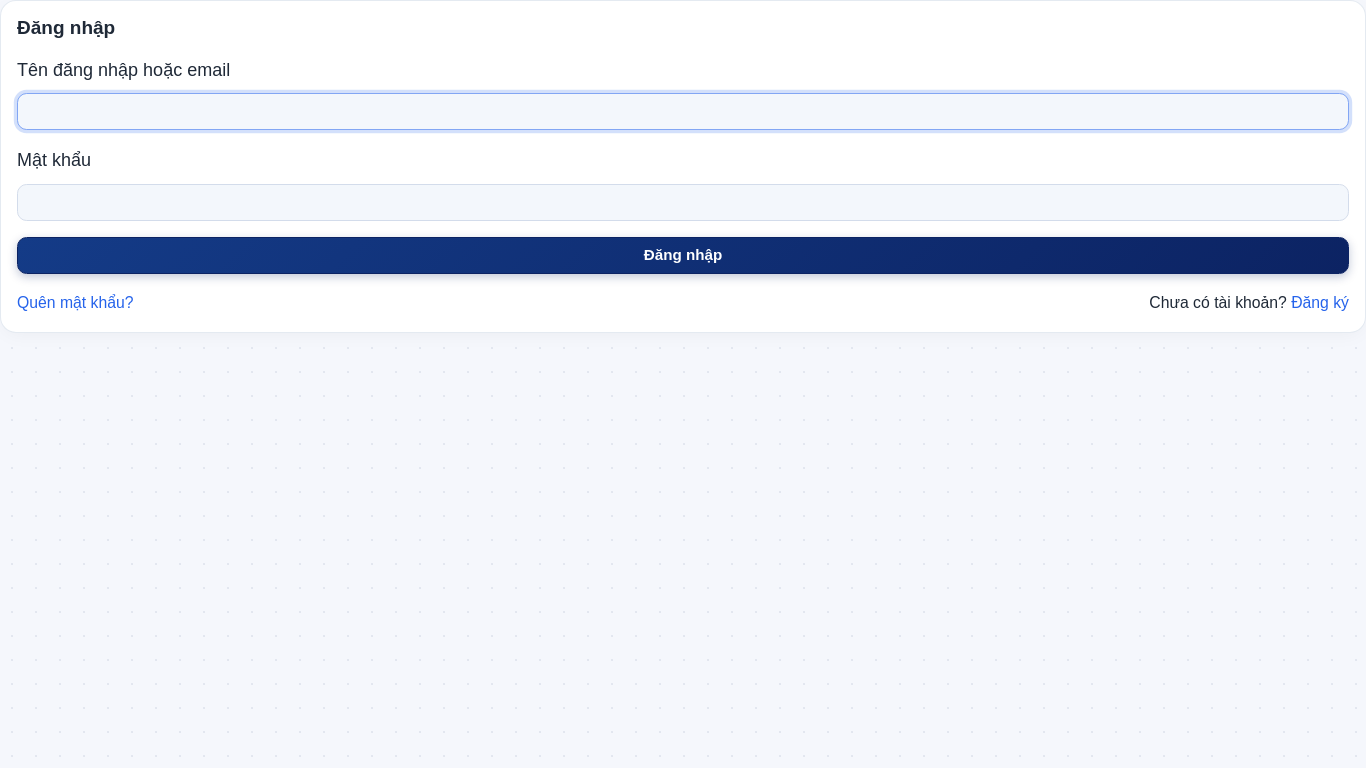
Test case: LoginPage › báo lỗi validation khi để trống
What coordinates should you click on to do the following:
click the button "Đăng nhập"
I would click on:
 (683, 255)
Its box is [17,237,1349,274].
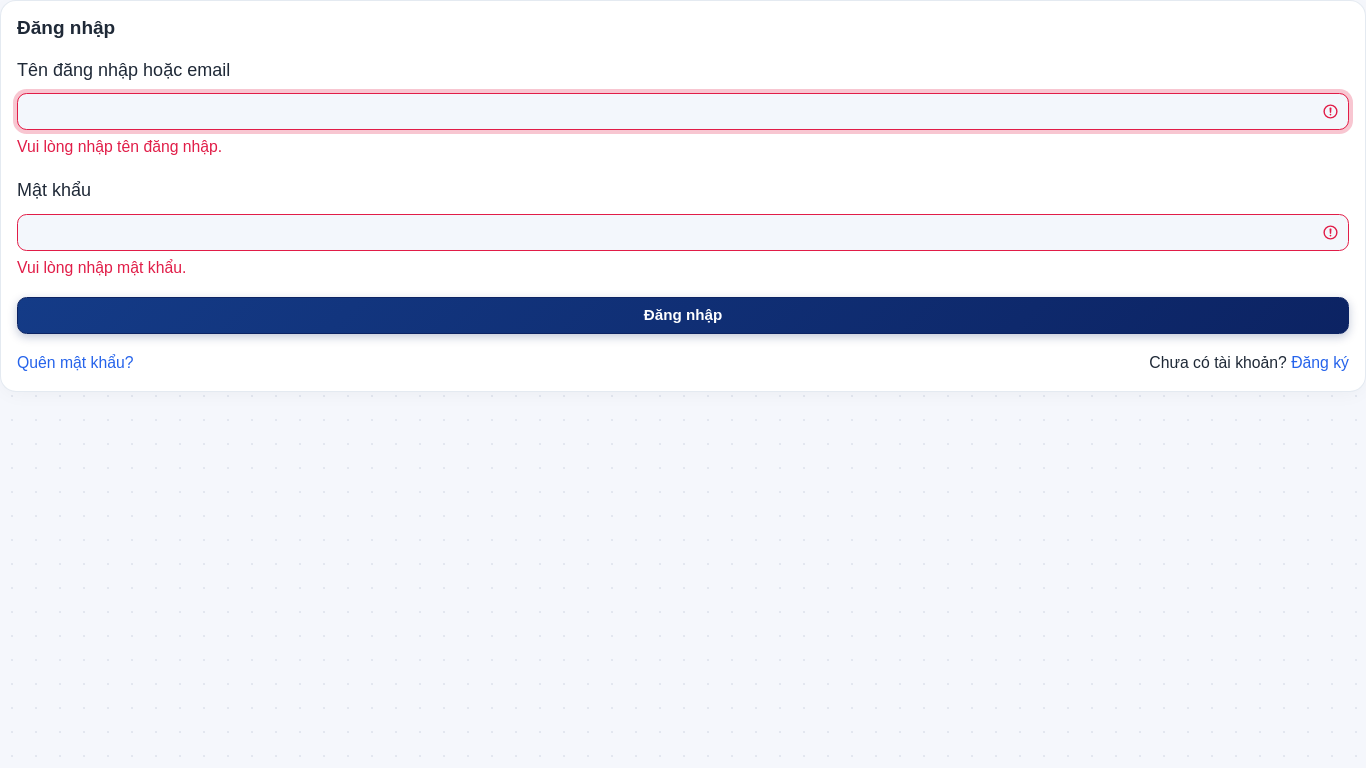
Expected: the text "Vui lòng nhập tên đăng nhập." is shown, [17,138,222,155]
